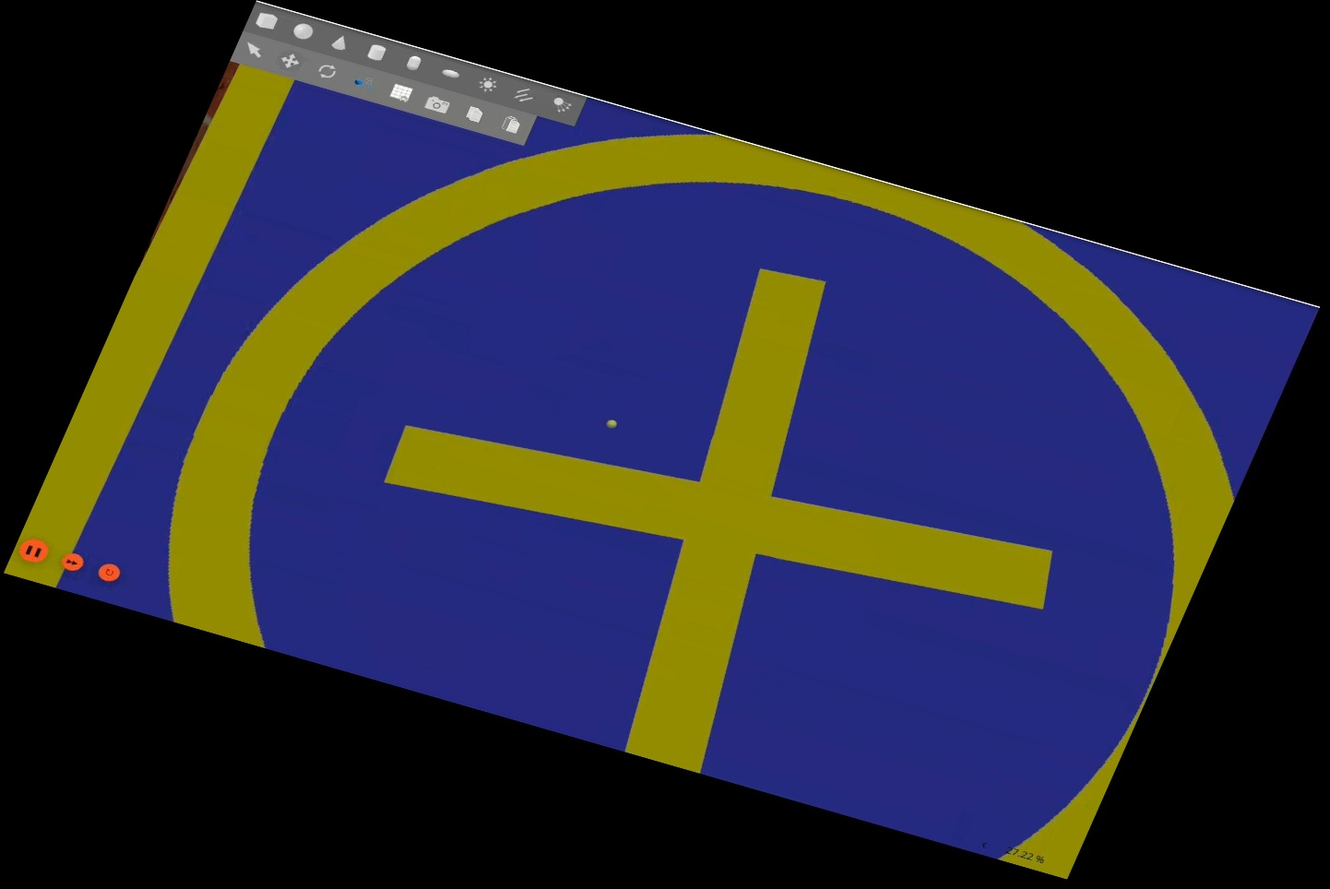small_base: (3, 0, 1320, 879)
